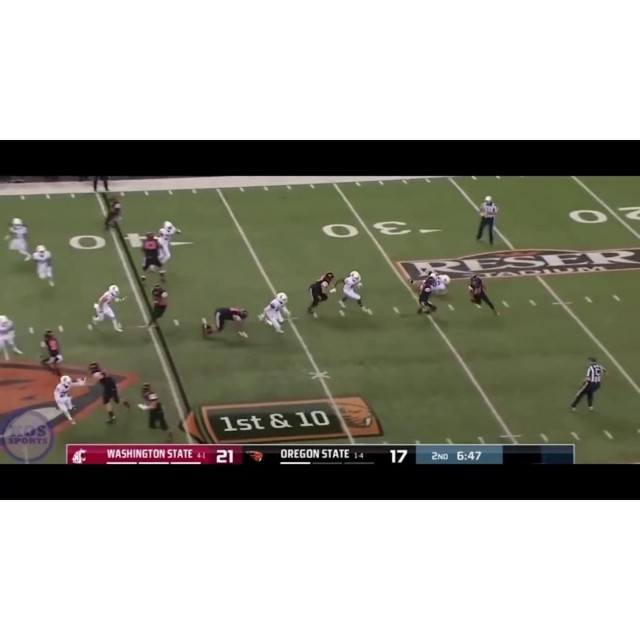american-football-player: (85, 361, 131, 424), (138, 382, 172, 438), (89, 284, 126, 332), (202, 306, 250, 342), (338, 270, 371, 316), (414, 271, 446, 315), (139, 231, 166, 282), (468, 273, 499, 316), (259, 292, 290, 333), (308, 271, 335, 318), (53, 375, 77, 425), (4, 217, 31, 261), (39, 329, 64, 374), (31, 244, 56, 288), (0, 314, 22, 362), (148, 283, 169, 329), (158, 220, 180, 262), (103, 198, 124, 232)
referee: (569, 356, 606, 413), (475, 196, 499, 246)
